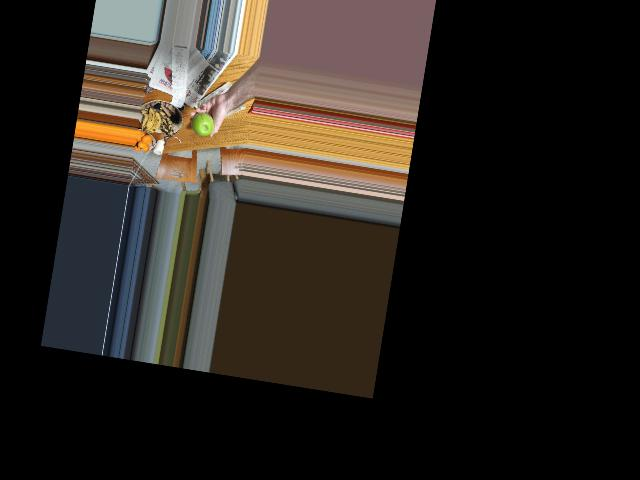apple: (188, 110, 218, 138)
